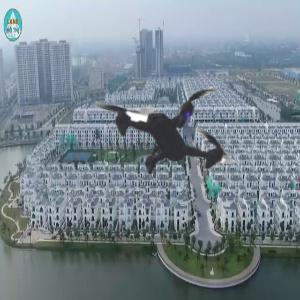drone: (50, 11, 283, 244)
